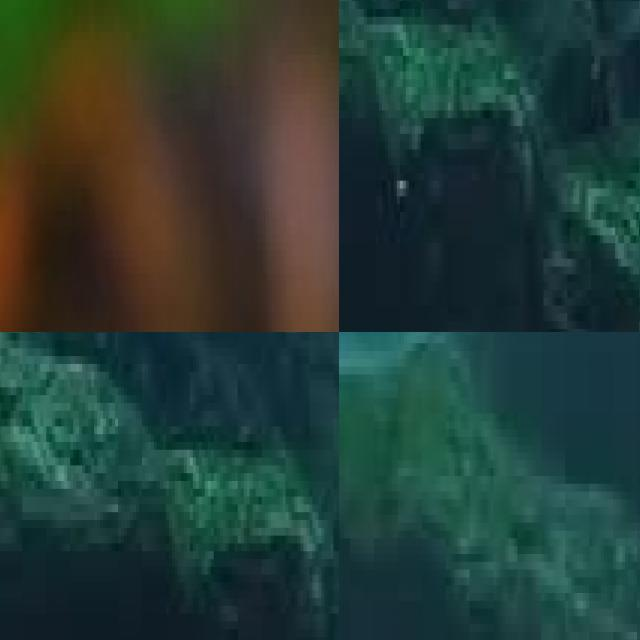fish: (0, 0, 339, 332), (339, 332, 565, 398)
